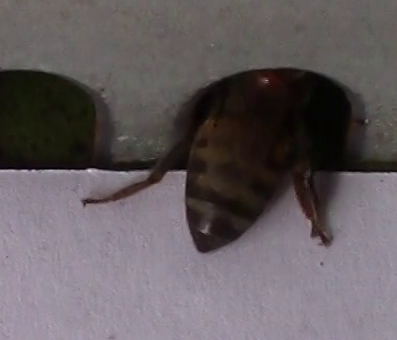Varroa destructor: (247, 68, 291, 102)
